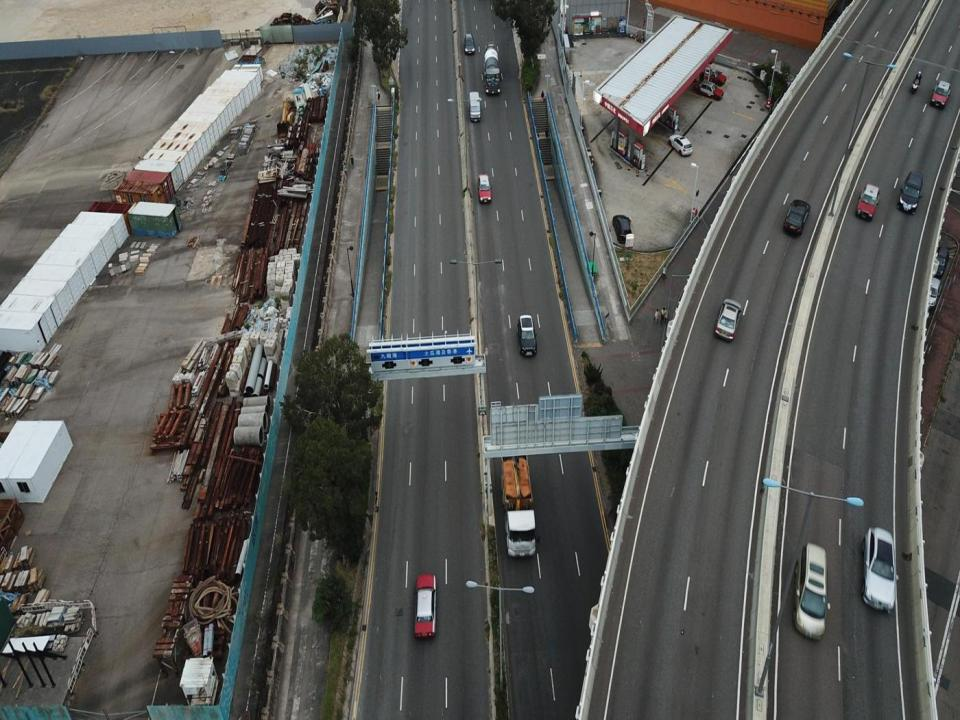car: (858, 525, 899, 613), (794, 542, 830, 640), (413, 573, 439, 638), (896, 169, 924, 214), (780, 199, 812, 238), (714, 297, 740, 342), (516, 311, 538, 361), (855, 183, 881, 222), (692, 78, 722, 102), (929, 78, 951, 109), (666, 132, 694, 156), (612, 212, 632, 244), (700, 65, 726, 86), (475, 171, 492, 203), (463, 32, 476, 57)
truck: (499, 443, 537, 560), (482, 42, 501, 95)
van: (467, 90, 481, 122)
